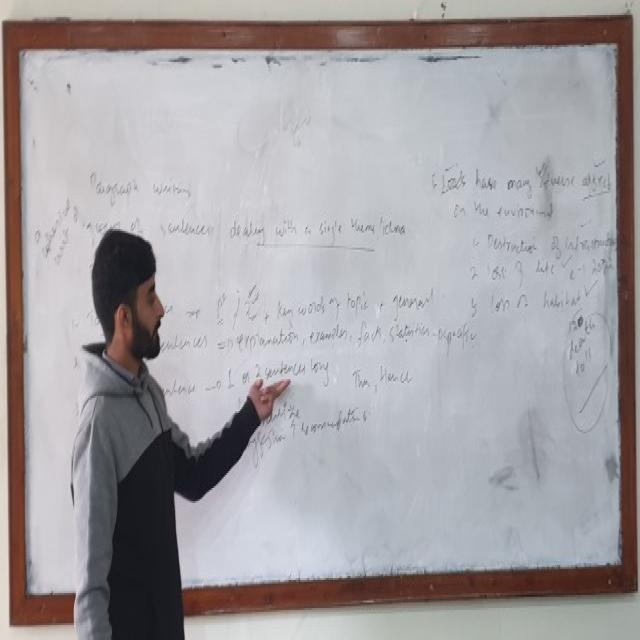Instructor: (69, 223, 192, 634)
White-board: (8, 31, 629, 612)
